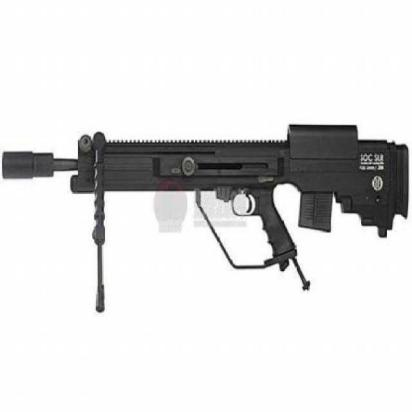Gun: (2, 123, 412, 308)
